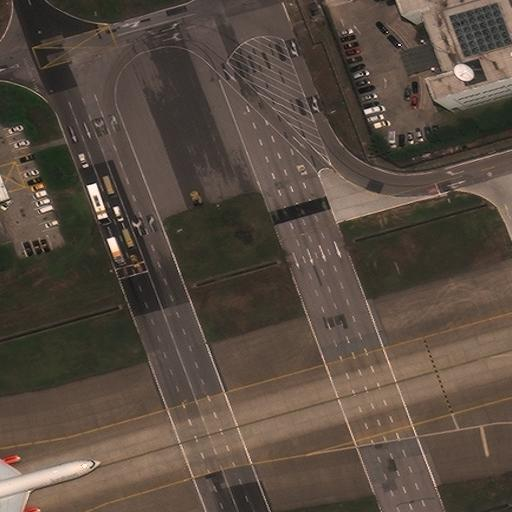Large Civil Transport: (0, 431, 99, 511)
